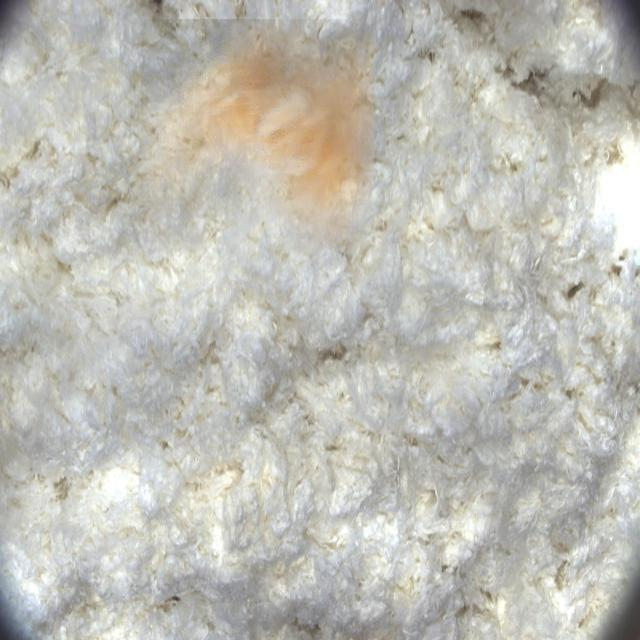dust: (141, 19, 374, 250)
